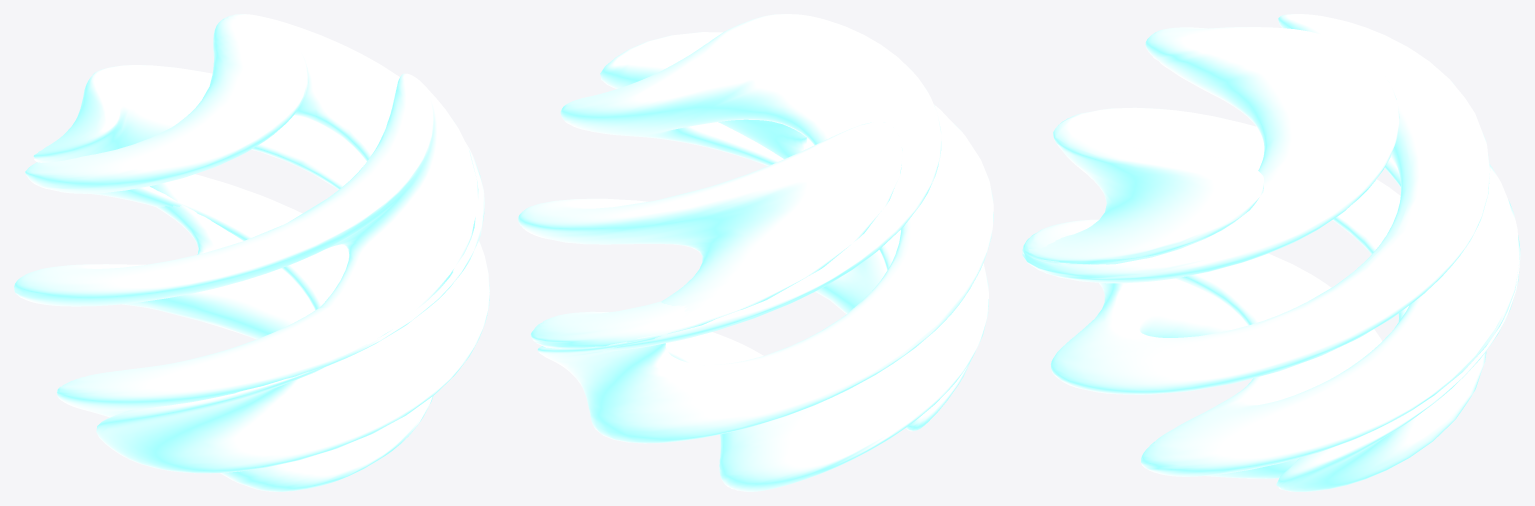
File: perfect-twist.fbx
3 views of the same model, side by side, from view 1: azimuth 30°, elevation 25°; view 2: azimuth 150°, elevation 25°; view 3: azimuth 270°, elevation 25° (orthographic). The views are drawn at different scales.
Visible parts, largest first — view 1: Torus.002; view 2: Torus.002; view 3: Torus.002.
Part boxes in pixels (<box>): Torus.002: <box>14,14,489,491</box>; Torus.002: <box>518,14,993,491</box>; Torus.002: <box>1022,14,1520,491</box>.
Bounding box in the file's own units: 35.04 × 34.91 × 35.01.
